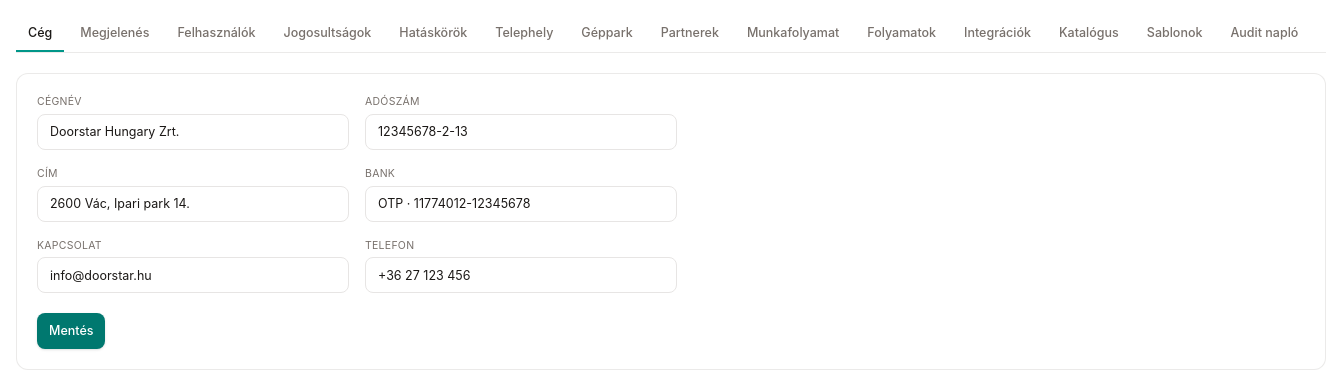
Test: SettingsPage › shows users from API
Click the button "Felhasználók" at (216, 34), box x1=165 y1=16 x2=268 y2=52
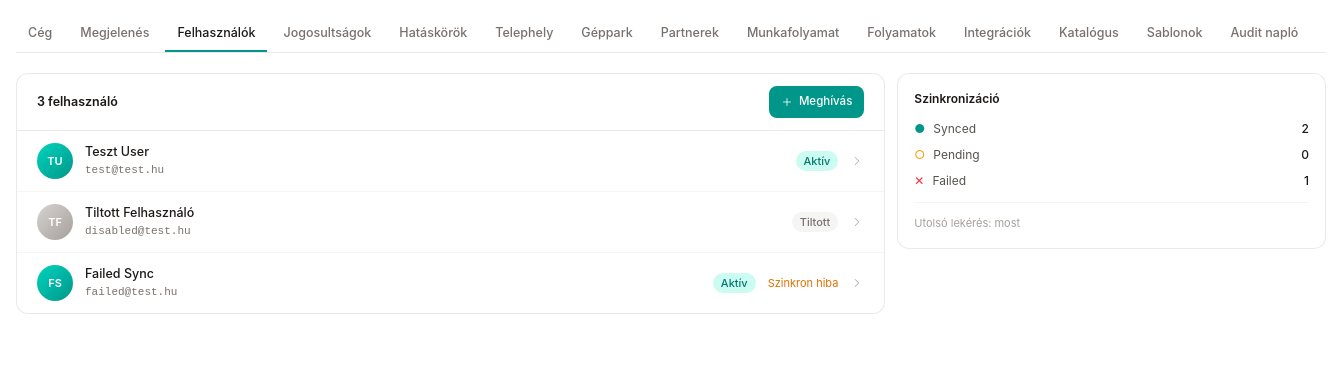
Expected: the text "Teszt User" is shown, x1=85 y1=144 x2=149 y2=159
Expected: the text "test@test.hu" is shown, x1=85 y1=164 x2=164 y2=176
